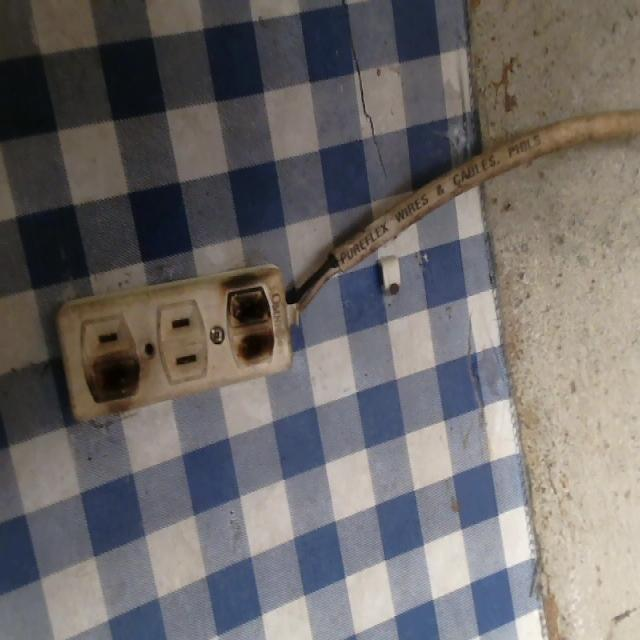-: (219, 268, 289, 377), (82, 348, 146, 403)
